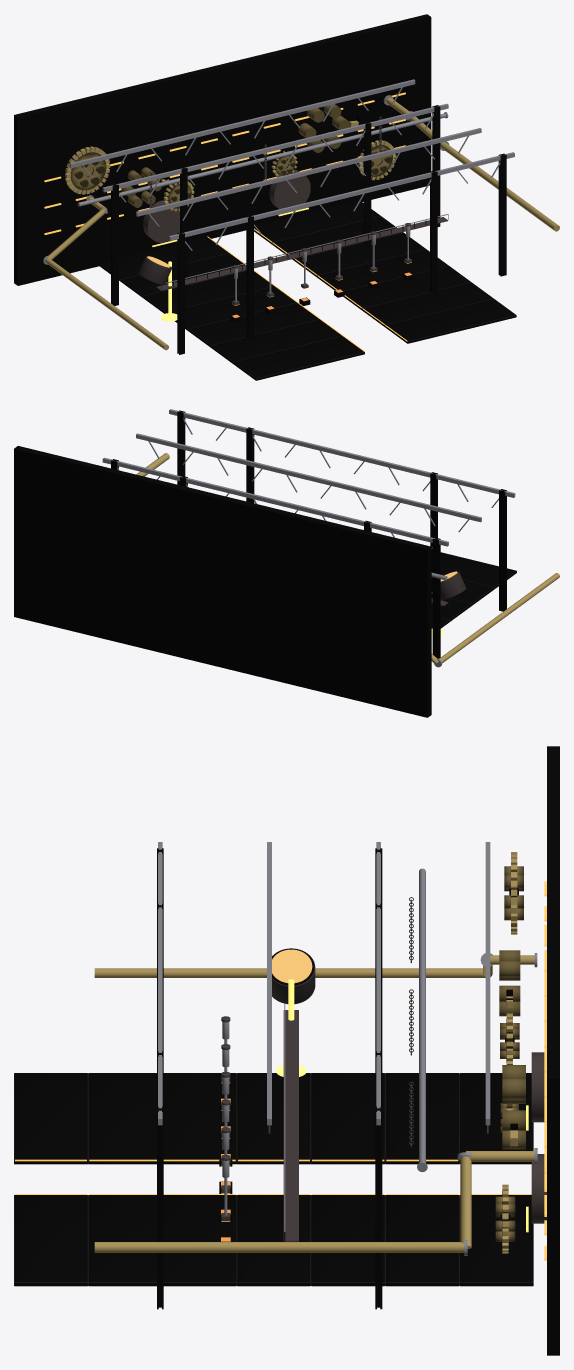
File: foundry.glb
The picture shows the model from 3 angles, top to bottom: view 1: azimuth 30°, elevation 25°; view 2: azimuth 150°, elevation 25°; view 3: azimuth 270°, elevation 25°; orthographic projection. The views are drawn at different scales.
Visible parts, largest first — view 1: back_wall, floor_L0, floor_R0, floor_L1, floor_R1, floor_R4, floor_R6, floor_L2, floor_R2, floor_R3, floor_L4, floor_L3 (+26 smaller); view 2: back_wall, truss_140, truss_90, truss_190, floor_L0, column_-140_190, pipes_left, column_-140_90, floor_L1, column_80_90, column_-80_90, column_140_90 (+2 smaller); view 3: back_wall, floor_R0, floor_L0, floor_L1, floor_L4, floor_L5, floor_R5, floor_L2, pipes_right, floor_R2, floor_R1, floor_R4 (+22 smaller).
Boxes of the visible parts, box(x1,y1,x2,y2) form: back_wall: box(14, 14, 431, 285); floor_L0: box(233, 336, 364, 380); floor_R0: box(385, 299, 516, 343); floor_L1: box(211, 319, 341, 363); floor_R1: box(362, 282, 493, 326); floor_R4: box(295, 232, 425, 277); floor_R6: box(254, 199, 380, 244); floor_L2: box(188, 303, 319, 347); floor_R2: box(343, 266, 470, 310); floor_R3: box(317, 249, 448, 291); floor_L4: box(143, 271, 274, 313); floor_L3: box(166, 286, 296, 331); back_wall: box(14, 446, 431, 717); truss_140: box(136, 433, 481, 522); truss_90: box(169, 409, 515, 497); truss_190: box(102, 457, 448, 546); floor_L0: box(440, 552, 516, 589); column_-140_190: box(432, 537, 440, 658); pipes_left: box(431, 573, 559, 667); column_-140_90: box(499, 489, 506, 611); floor_L1: box(441, 574, 494, 605); column_80_90: box(246, 427, 254, 503); column_-80_90: box(430, 472, 437, 594); column_140_90: box(177, 410, 185, 485); back_wall: box(547, 746, 559, 1355); floor_R0: box(14, 1195, 88, 1286); floor_L0: box(14, 1073, 88, 1164); floor_L1: box(88, 1073, 156, 1164); floor_L4: box(311, 1073, 385, 1164); floor_L5: box(385, 1073, 459, 1164); floor_R5: box(385, 1195, 459, 1286); floor_L2: box(163, 1073, 236, 1164); pipes_right: box(94, 1148, 537, 1255); floor_R2: box(163, 1195, 236, 1286); floor_R1: box(88, 1195, 156, 1286); floor_R4: box(311, 1195, 385, 1286).
Size of the model in its own units: 360 by 140 by 250.
Materials: 4 (4 with a texture image).
